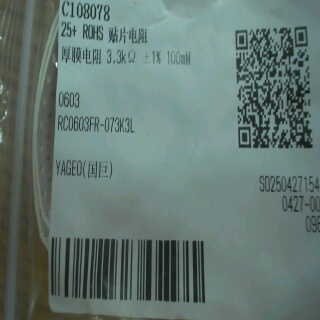3.3kO: (102, 46, 143, 72)
